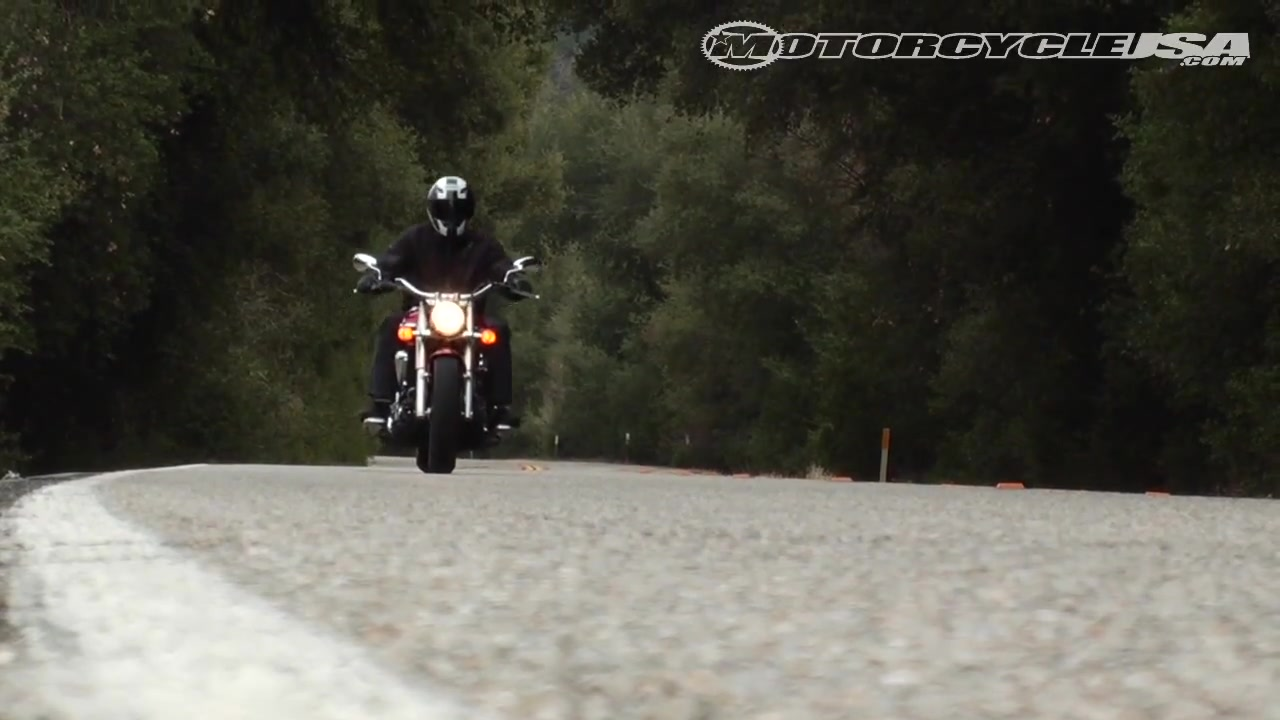motorbike: (350, 250, 543, 477)
